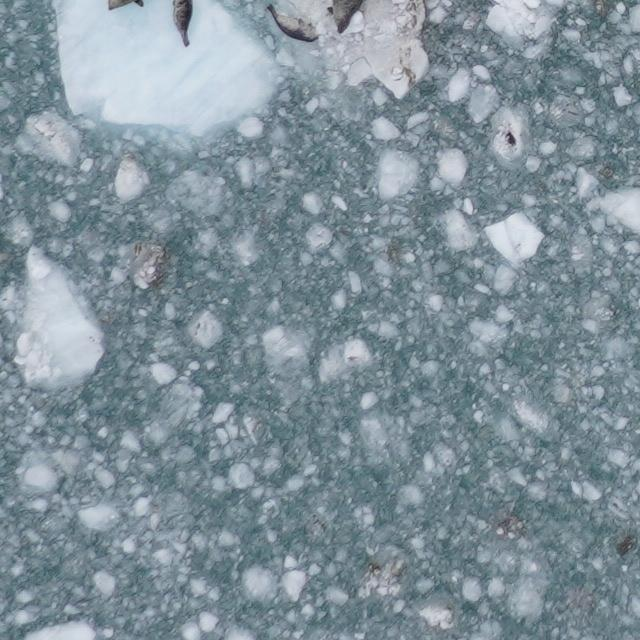seal: (263, 1, 325, 47), (323, 0, 370, 36), (168, 0, 197, 51)
